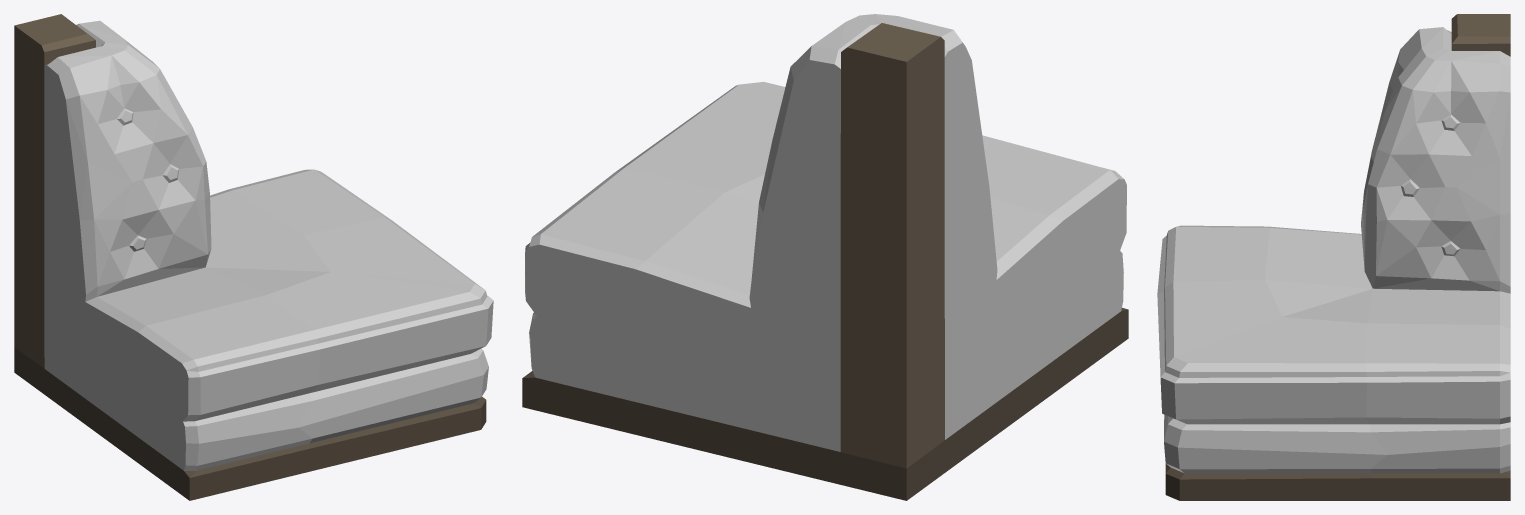
File: SM_Prop_Sofa_01_Corner_06.fbx
3 views of the same model, side by side, from view 1: azimuth 30°, elevation 25°; view 2: azimuth 150°, elevation 25°; view 3: azimuth 270°, elevation 25° (orthographic). The views are drawn at different scales.
Visible parts, largest first — view 1: SM_Prop_Sofa_01_Corner_06; view 2: SM_Prop_Sofa_01_Corner_06; view 3: SM_Prop_Sofa_01_Corner_06.
Boxes of the visible parts, x1,y1,x2,y2 form: SM_Prop_Sofa_01_Corner_06: [14, 14, 493, 500]; SM_Prop_Sofa_01_Corner_06: [522, 14, 1128, 500]; SM_Prop_Sofa_01_Corner_06: [1157, 14, 1510, 500].
Size of the model in its own units: 104 by 111 by 104.
